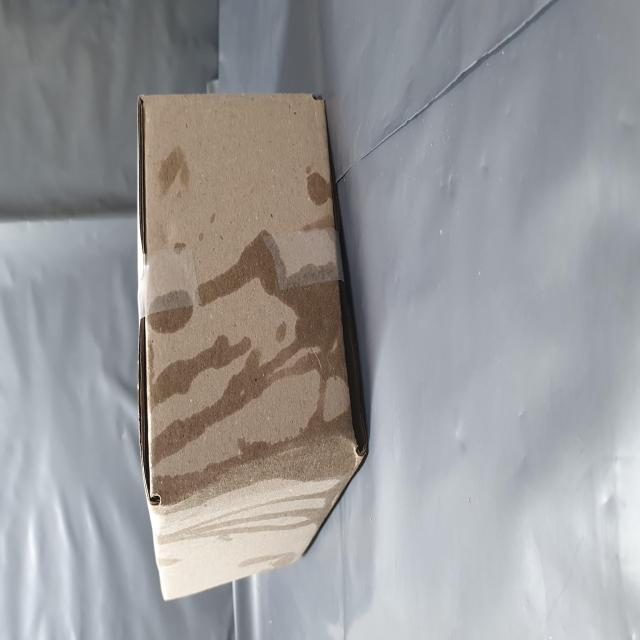wet: (71, 257, 207, 639)
